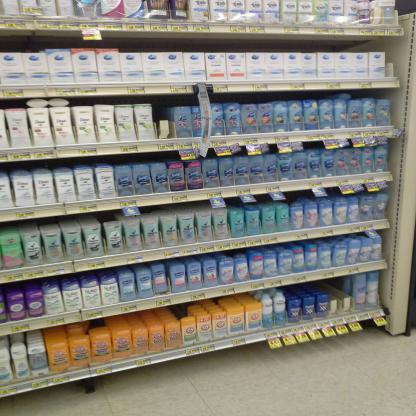Void: (152, 105, 170, 138), (283, 279, 347, 287)
